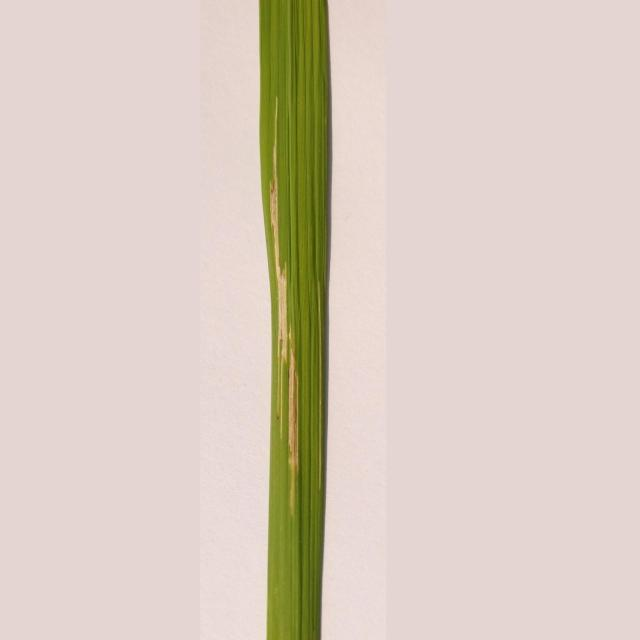leaf blight: (259, 93, 313, 499)
